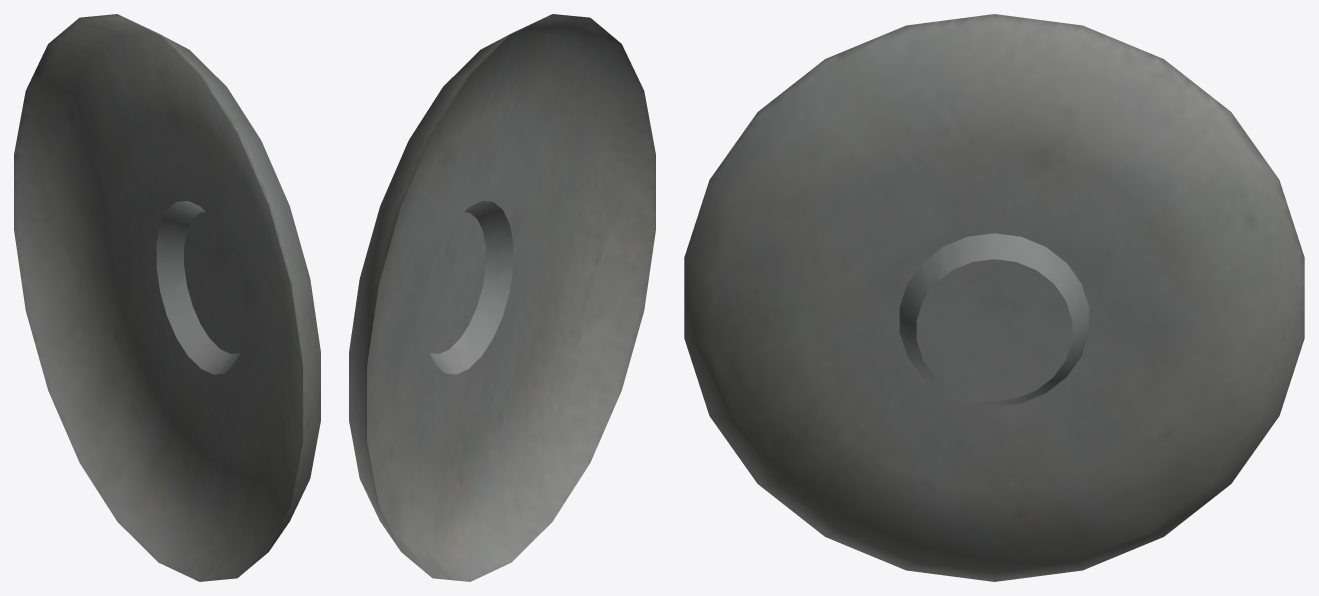
Rendered from sedan_car_wheel_lf_sedan_car_wheel_lf_2_0.glb.
3 views of the same model, side by side, from view 1: azimuth 30°, elevation 25°; view 2: azimuth 150°, elevation 25°; view 3: azimuth 270°, elevation 25° (orthographic). The views are drawn at different scales.
Parts seen in each view (by area): view 1: sedan_car_wheel_lf_sedan_car_wheel_lf_2_0; view 2: sedan_car_wheel_lf_sedan_car_wheel_lf_2_0; view 3: sedan_car_wheel_lf_sedan_car_wheel_lf_2_0.
Part boxes in pixels (x1,y1,x2,y2): sedan_car_wheel_lf_sedan_car_wheel_lf_2_0: (14,14,320,581); sedan_car_wheel_lf_sedan_car_wheel_lf_2_0: (349,14,655,581); sedan_car_wheel_lf_sedan_car_wheel_lf_2_0: (684,14,1304,581).
Size of the model in its own units: 0.0604 by 0.494 by 0.489.
Materials: 1 (1 with a texture image).
